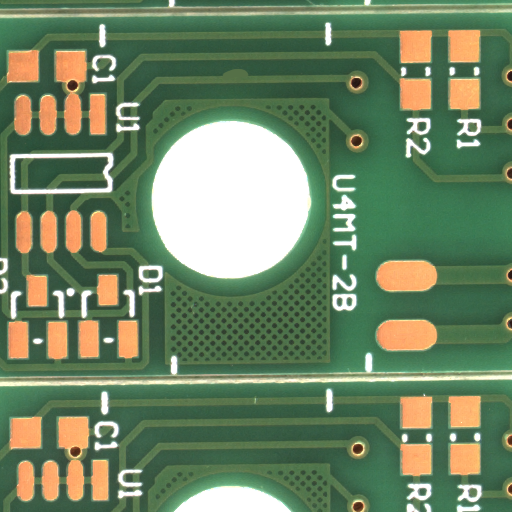Spur: (234, 73, 271, 87)
